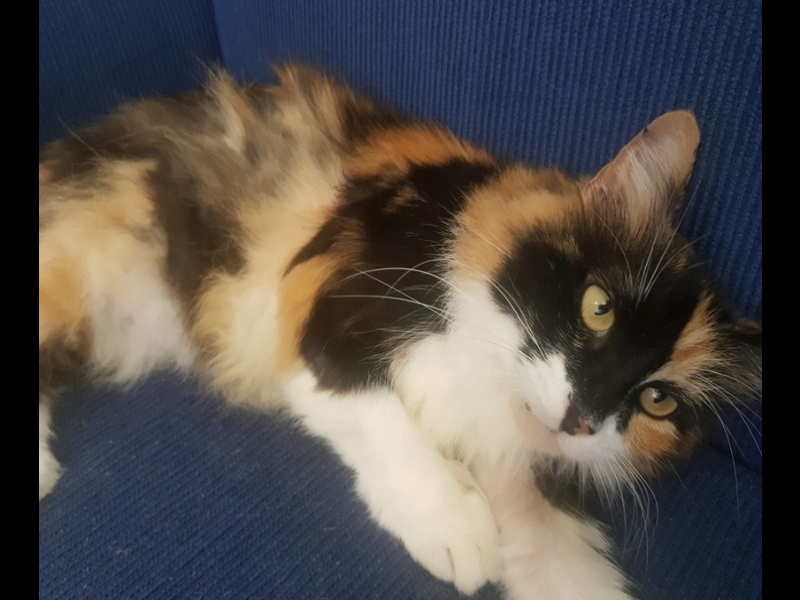cat: (43, 42, 759, 594)
